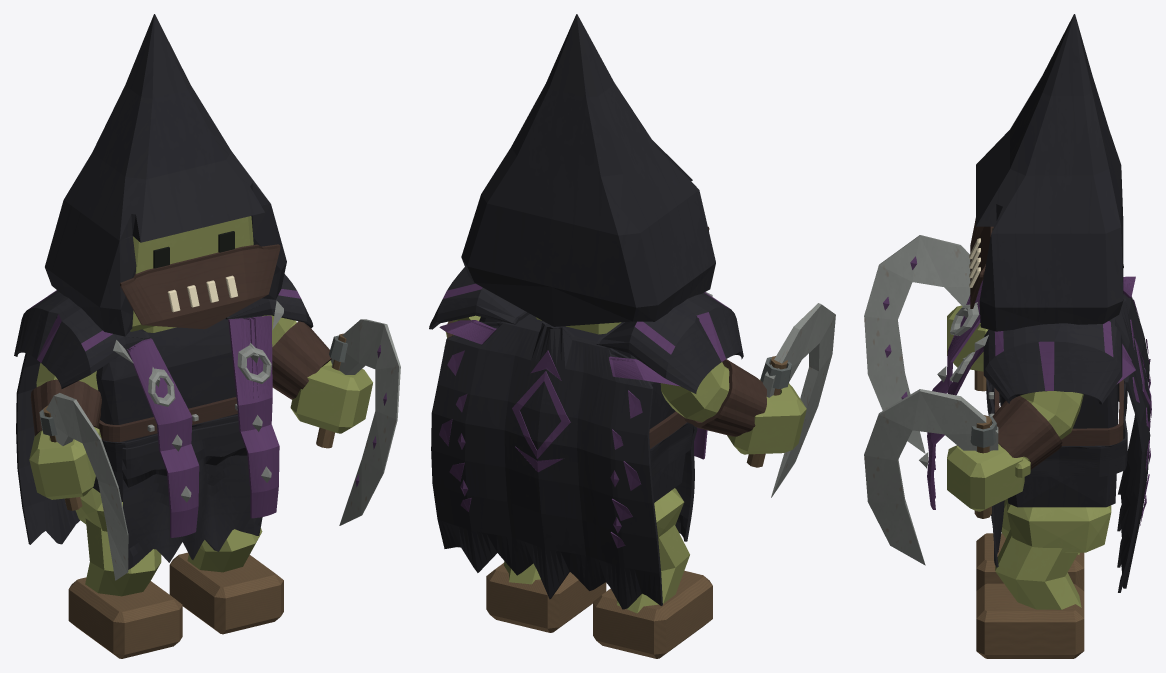
File: host_18.glb
The picture shows the model from 3 angles, left to right: view 1: azimuth 30°, elevation 25°; view 2: azimuth 150°, elevation 25°; view 3: azimuth 270°, elevation 25°; orthographic projection. The views are drawn at different scales.
Parts seen in each view (by area): view 1: Pointed brown hood - hollow outer cloth, Source coherent fitted jagged dark front skirt, Source pointed mouth mask, Source connected torso mass, RIGHT source planted boot, LEFT source planted boot, Source deep violet angular shoulder mantle 1, Source hanging deep violet front lapel -1, LEFT source broad swept silver scythe crescent, Source hanging deep violet front lapel 1, RIGHT source broad swept silver scythe crescent, Source continuous jagged dark rear cloak (+13 smaller); view 2: Source continuous jagged dark rear cloak, Pointed brown hood - hollow outer cloth, Source deep violet angular shoulder mantle 1, RIGHT source planted boot, LEFT source planted boot, RIGHT source broad swept silver scythe crescent, RIGHT real compact source grasp source compact planar grasp, RIGHT fitted source hollow leather bracer, Source deep violet angular shoulder mantle -1, RIGHT full actual connected arm, Source connected torso mass, RIGHT source short joined leg (+7 smaller); view 3: Pointed brown hood - hollow outer cloth, Source deep violet angular shoulder mantle -1, LEFT source broad swept silver scythe crescent, RIGHT source broad swept silver scythe crescent, LEFT source planted boot, Source continuous jagged dark rear cloak, Source connected torso mass, LEFT source short joined leg, Actual pelvis continues lower torso into thighs, LEFT real compact source grasp source compact planar grasp, LEFT fitted source hollow leather bracer, Source fitted ragged hem (+10 smaller).
Boxes of the visible parts, left/top/right/bottom form: Pointed brown hood - hollow outer cloth: left=45, top=14, right=286, bottom=336; Source coherent fitted jagged dark front skirt: left=122, top=421, right=262, bottom=569; Source pointed mouth mask: left=120, top=244, right=280, bottom=329; Source connected torso mass: left=93, top=316, right=261, bottom=501; RIGHT source planted boot: left=68, top=577, right=182, bottom=658; LEFT source planted boot: left=169, top=552, right=283, bottom=634; Source deep violet angular shoulder mantle 1: left=14, top=290, right=149, bottom=388; Source hanging deep violet front lapel -1: left=228, top=315, right=279, bottom=518; LEFT source broad swept silver scythe crescent: left=330, top=319, right=400, bottom=525; Source hanging deep violet front lapel 1: left=127, top=338, right=199, bottom=537; RIGHT source broad swept silver scythe crescent: left=46, top=393, right=128, bottom=580; Source continuous jagged dark rear cloak: left=16, top=353, right=79, bottom=544; Source continuous jagged dark rear cloak: left=431, top=321, right=662, bottom=609; Pointed brown hood - hollow outer cloth: left=461, top=14, right=715, bottom=326; Source deep violet angular shoulder mantle 1: left=596, top=292, right=743, bottom=393; RIGHT source planted boot: left=593, top=570, right=712, bottom=658; LEFT source planted boot: left=486, top=563, right=606, bottom=632; RIGHT source broad swept silver scythe crescent: left=763, top=303, right=835, bottom=497; RIGHT real compact source grasp source compact planar grasp: left=727, top=379, right=806, bottom=454; RIGHT fitted source hollow leather bracer: left=684, top=359, right=766, bottom=436; Source deep violet angular shoulder mantle -1: left=429, top=267, right=529, bottom=329; RIGHT full actual connected arm: left=660, top=362, right=729, bottom=422; Source connected torso mass: left=479, top=314, right=685, bottom=502; RIGHT source short joined leg: left=612, top=525, right=689, bottom=613; Pointed brown hood - hollow outer cloth: left=976, top=14, right=1123, bottom=331; Source deep violet angular shoulder mantle -1: left=983, top=321, right=1122, bottom=404; LEFT source broad swept silver scythe crescent: left=864, top=389, right=998, bottom=565; RIGHT source broad swept silver scythe crescent: left=864, top=235, right=970, bottom=453; LEFT source planted boot: left=976, top=583, right=1084, bottom=658; Source continuous jagged dark rear cloak: left=1109, top=293, right=1150, bottom=592; Source connected torso mass: left=1000, top=320, right=1118, bottom=507; LEFT source short joined leg: left=995, top=529, right=1081, bottom=609; Actual pelvis continues lower torso into thighs: left=1007, top=499, right=1111, bottom=552; LEFT real compact source grasp source compact planar grasp: left=947, top=445, right=1030, bottom=511; LEFT fitted source hollow leather bracer: left=992, top=396, right=1062, bottom=469; Source fitted ragged hem: left=992, top=381, right=1127, bottom=476.
Bounding box in the file's own units: 1.1 × 1.85 × 0.7963.
Materials: 9 (8 with a texture image).
